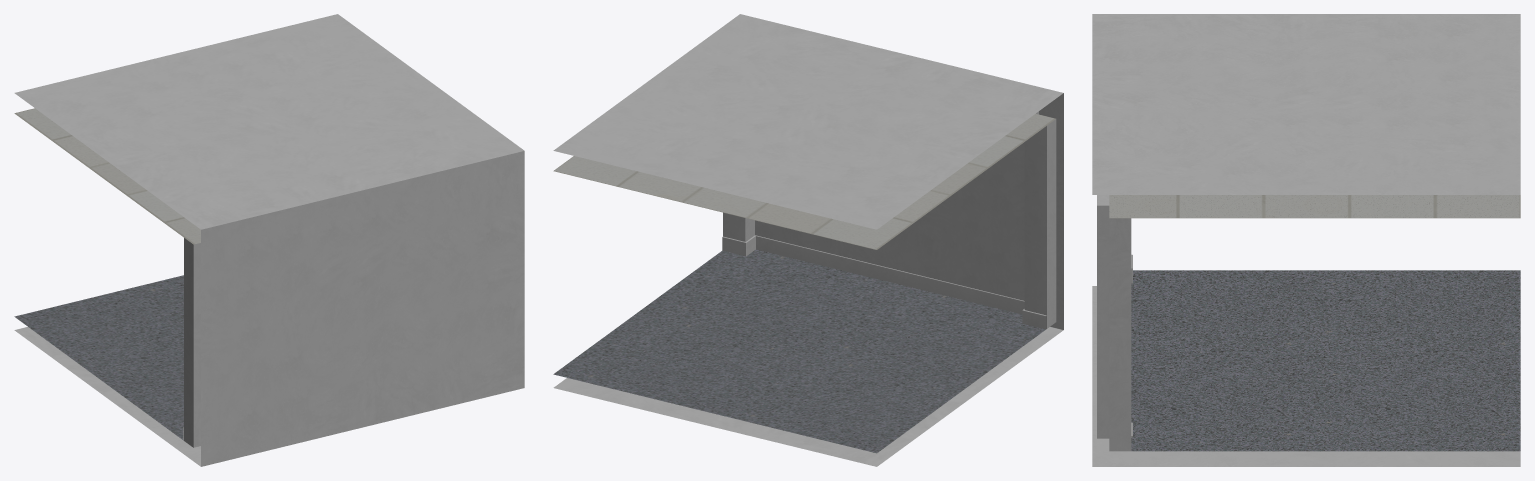
Rendered from SM_HallwayMesh_01_Mid_Side_Solid.fbx.
3 renders of one model, left to right at view 1: azimuth 30°, elevation 25°; view 2: azimuth 150°, elevation 25°; view 3: azimuth 270°, elevation 25°, orthographic. The views are drawn at different scales.
Visible parts, largest first — view 1: SM_HallwayMesh_01_Mid_Side_Solid_LOD0; view 2: SM_HallwayMesh_01_Mid_Side_Solid_LOD0; view 3: SM_HallwayMesh_01_Mid_Side_Solid_LOD0.
Boxes of the visible parts, left/top/right/bottom form: SM_HallwayMesh_01_Mid_Side_Solid_LOD0: left=14, top=14, right=524, bottom=466; SM_HallwayMesh_01_Mid_Side_Solid_LOD0: left=553, top=14, right=1063, bottom=466; SM_HallwayMesh_01_Mid_Side_Solid_LOD0: left=1092, top=14, right=1520, bottom=466.
Bounding box in the file's own units: 500 × 500 × 350.
Materials: 5 (5 with a texture image).
